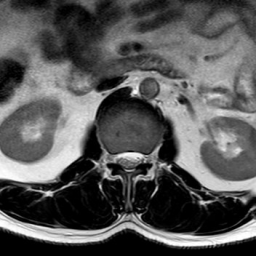CCS_normal: (125, 144, 133, 181)
LFS_normal: (143, 143, 151, 172)
LLS_normal: (133, 143, 143, 175)
RFS_normal: (107, 142, 116, 170)
RLS_normal: (116, 143, 125, 173)
